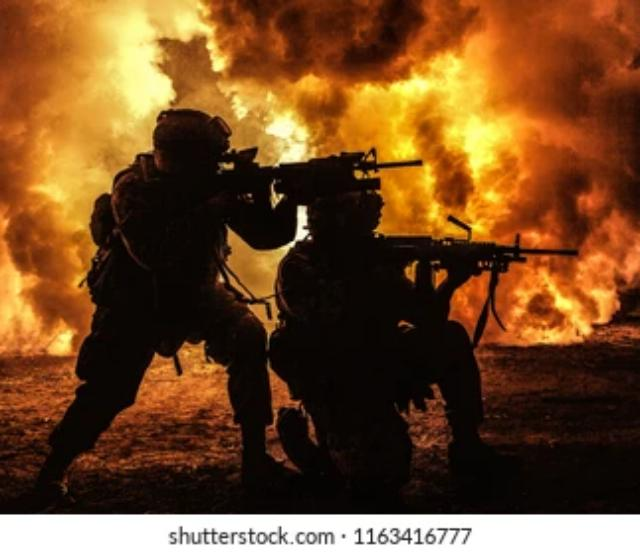other: (88, 107, 268, 467), (278, 180, 482, 469)
